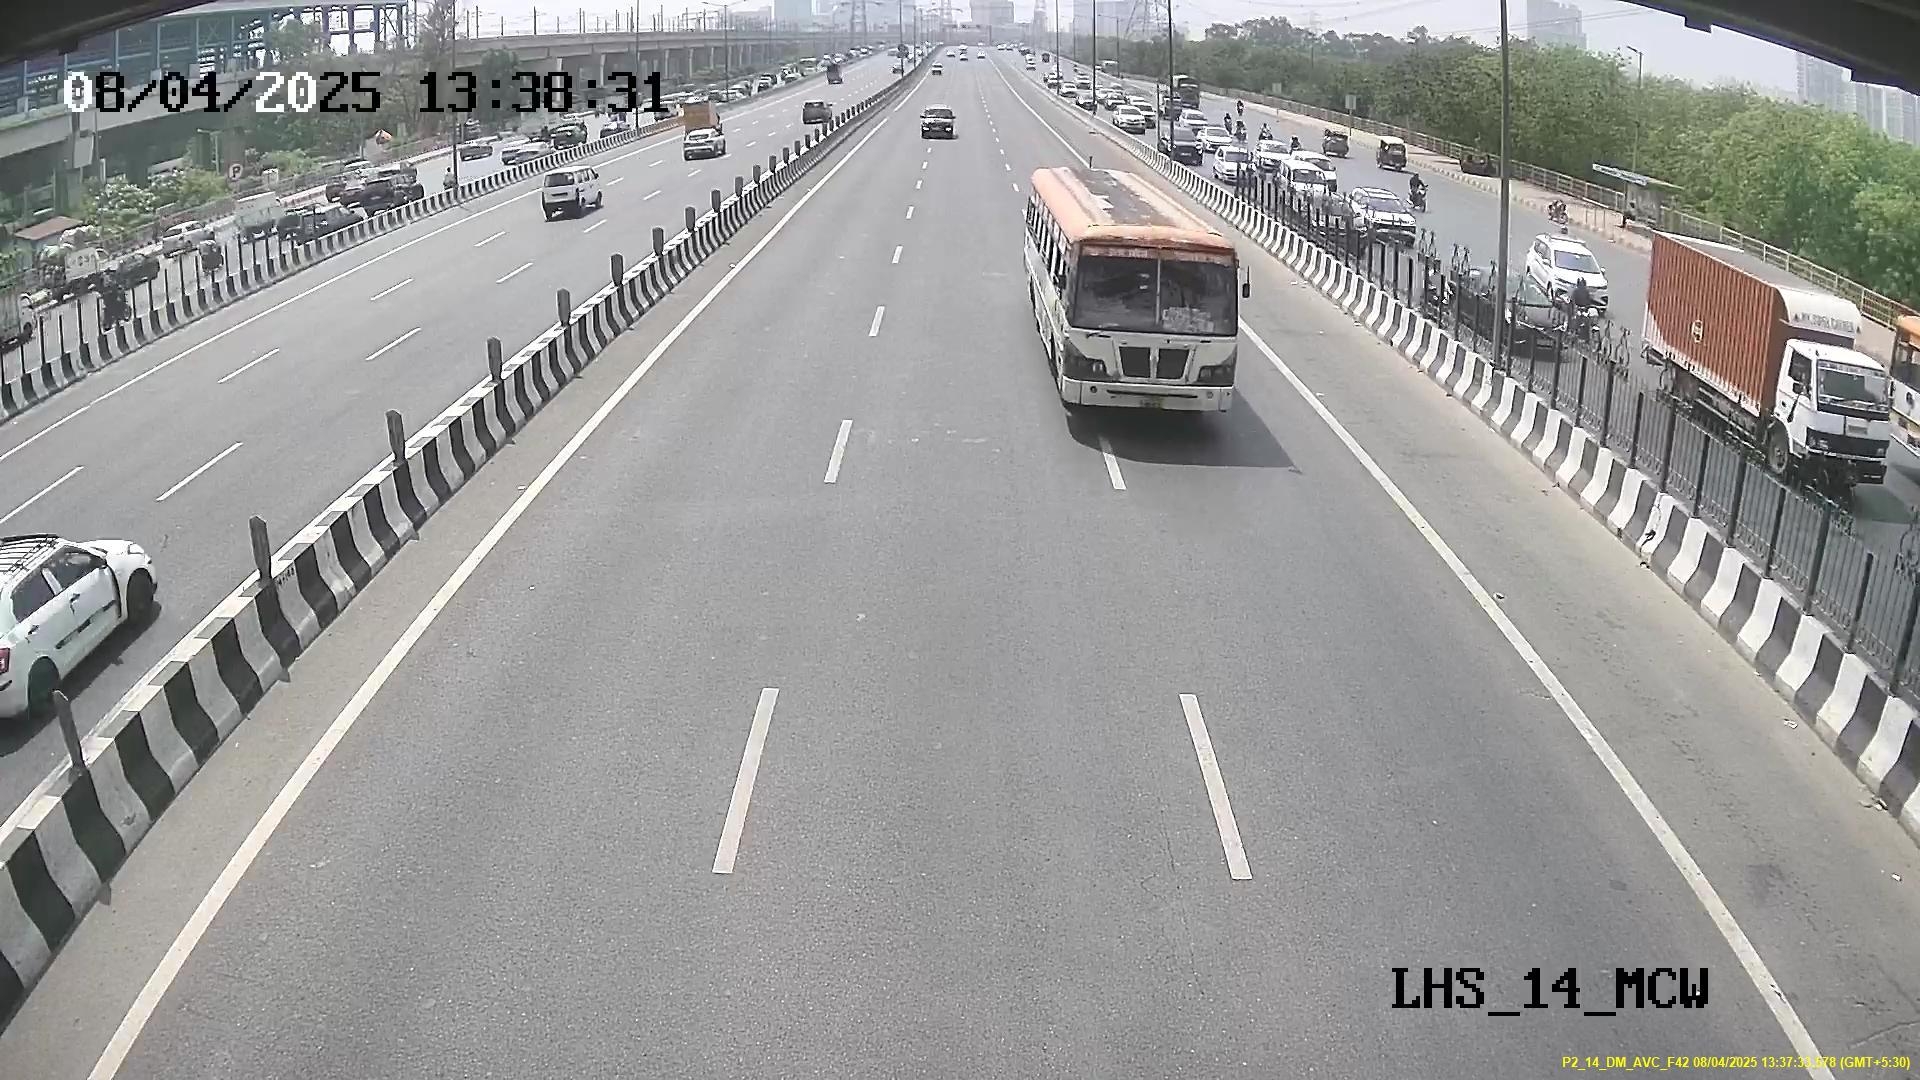bus: (1044, 220, 1249, 430)
